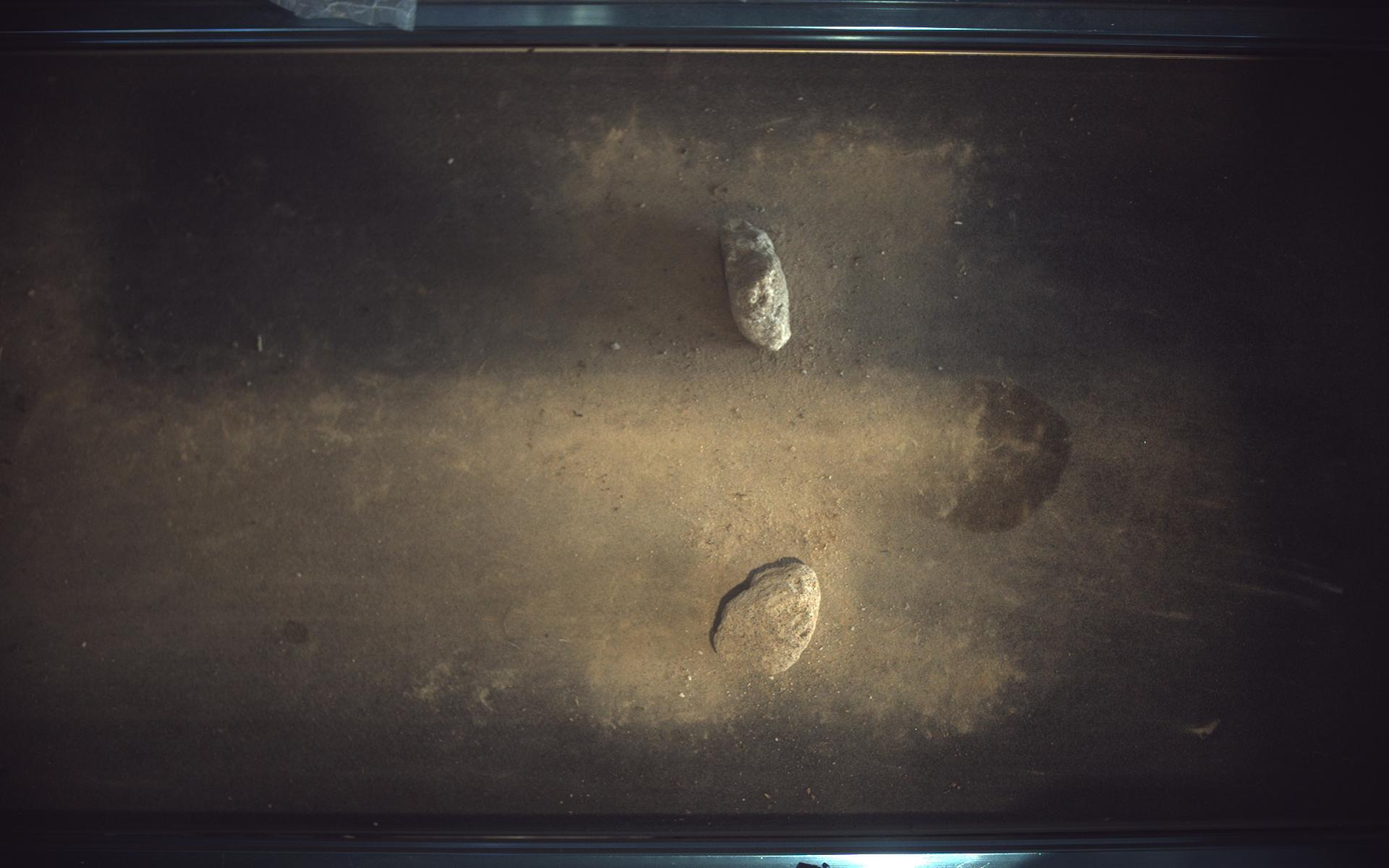stone: (712, 558, 822, 678), (721, 218, 793, 351)
